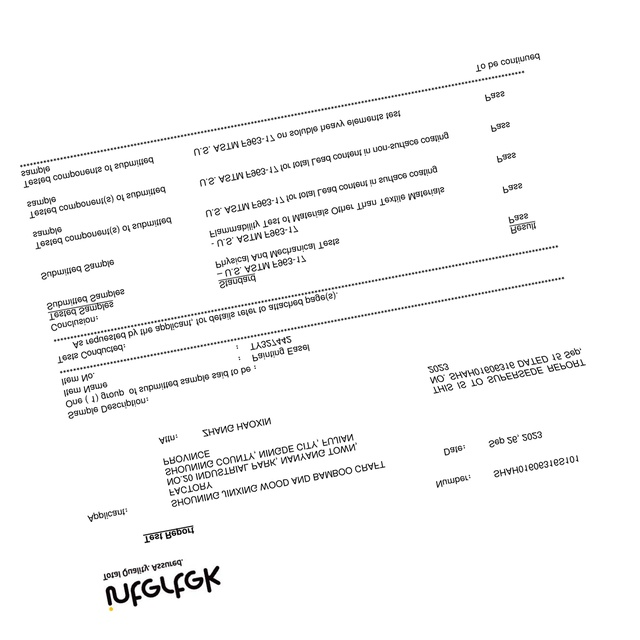intertek: (98, 554, 226, 614)
